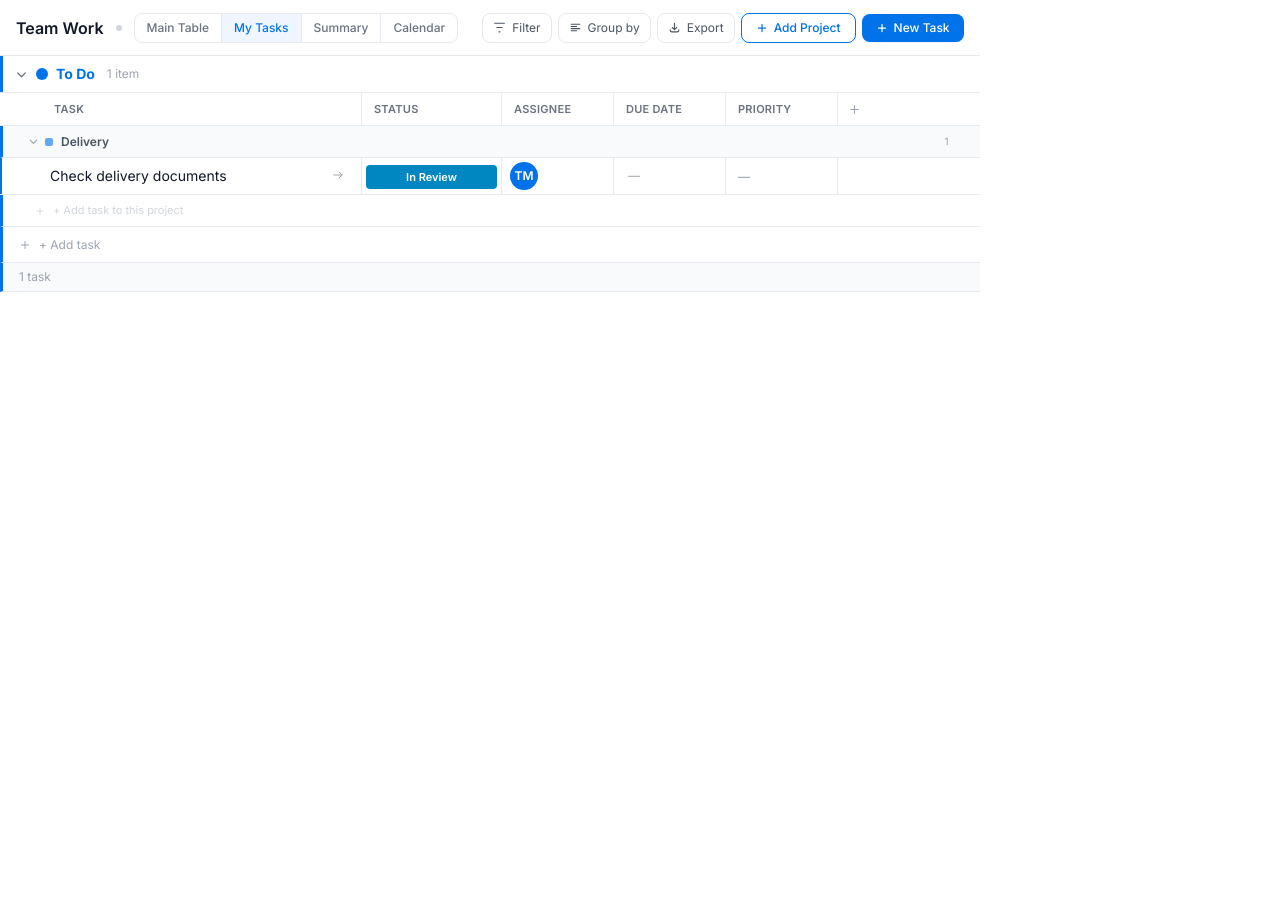
Test: completion changes through task details › completes a project task with today’s date and moves it in the same task write
Click the button "Check delivery documents" at (186,176), box [50,166,323,186]
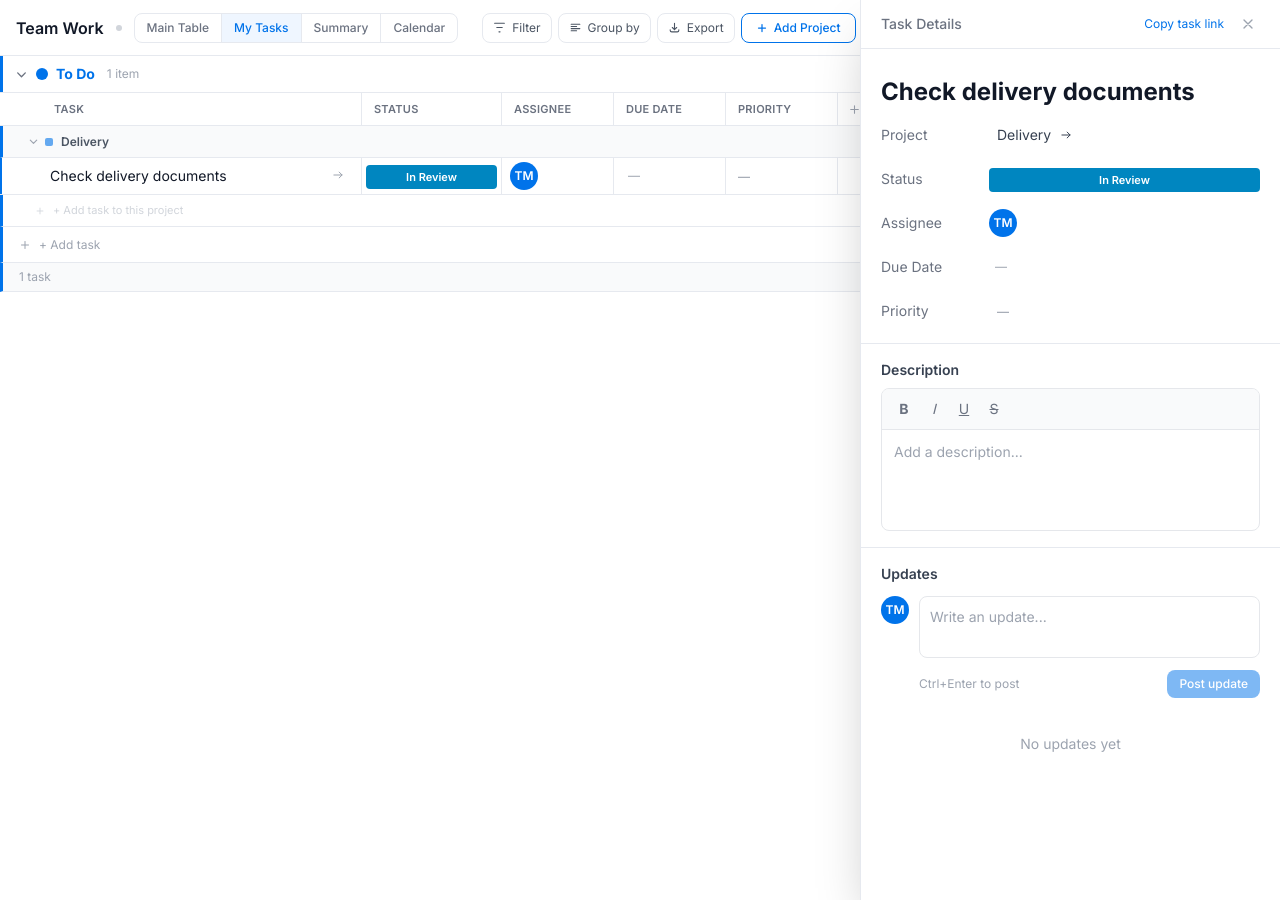
Click the button "In Review" below "Task Details" at (1124,180), box [989,168,1260,192]
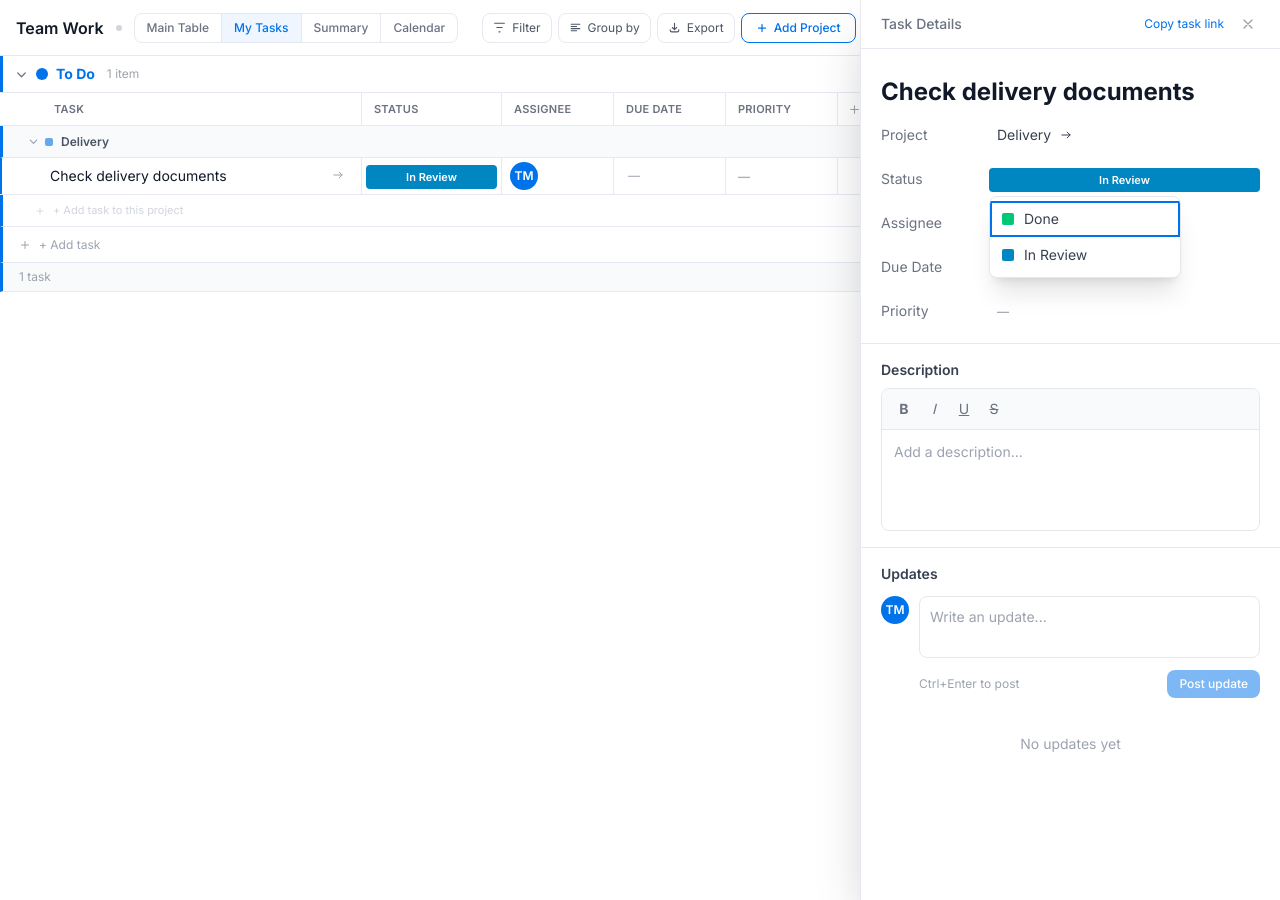
Press the mouse on the menu item "Done" at (1085,219), box [990,201,1180,237]
expect the text "Task Details" is shown: met, box [881,14,962,34]
Click the menu item "Done" at (1085,219), box [990,201,1180,237]
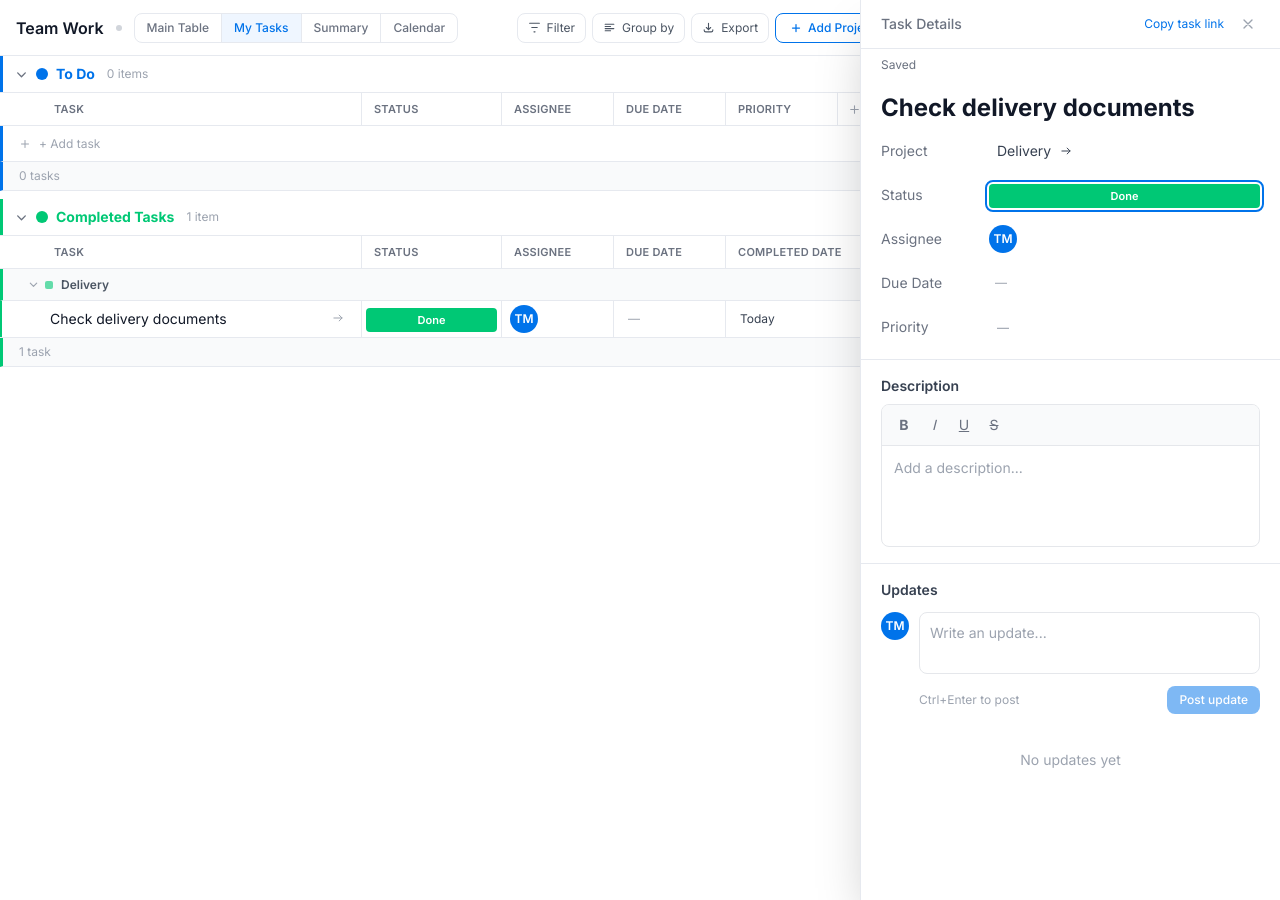
expect the button "Check delivery documents" below "Completed Tasks" is shown: met, box [50,309,323,329]
expect the button with aria-label "Edit completed date" is shown: met, box [734,309,781,329]
